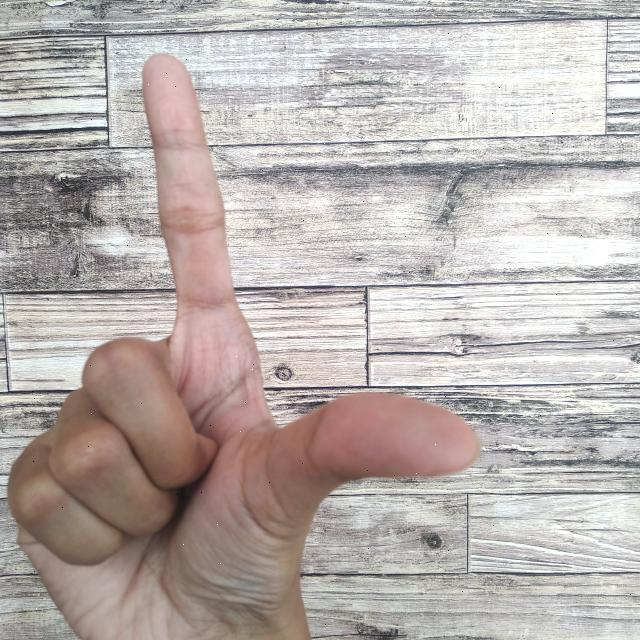L: (5, 46, 492, 640)
